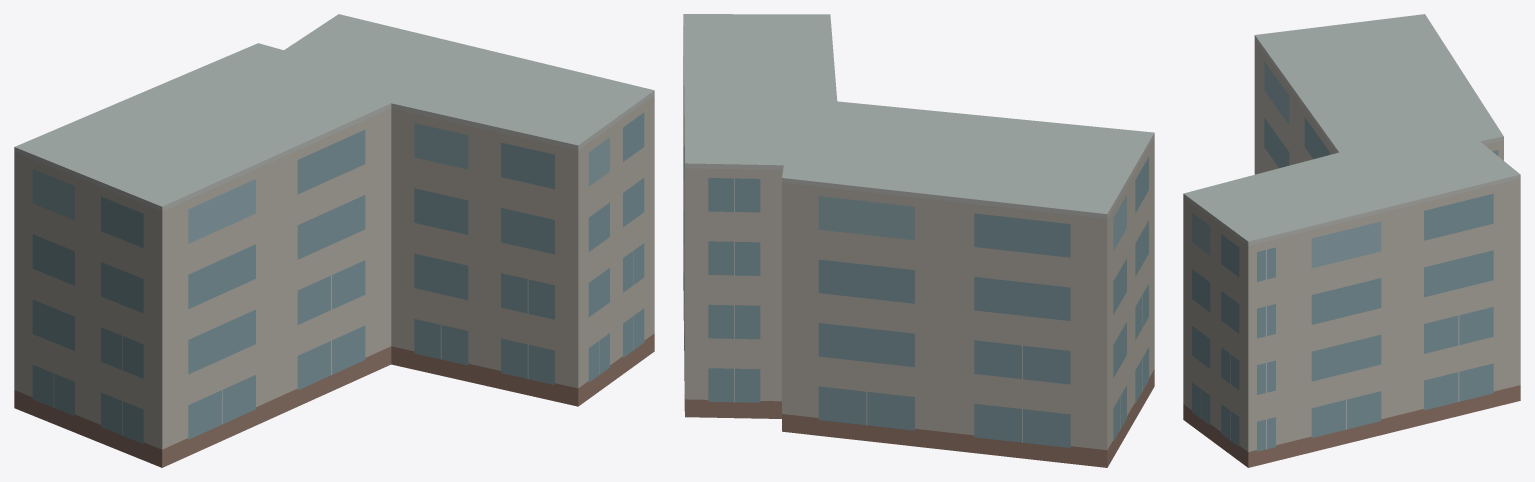
File: survey-upis-32894743.glb
3 views of the same model, side by side, from view 1: azimuth 30°, elevation 25°; view 2: azimuth 150°, elevation 25°; view 3: azimuth 270°, elevation 25° (orthographic). The views are drawn at different scales.
Parts seen in each view (by area): view 1: survey-upis-32894743.tmp; view 2: survey-upis-32894743.tmp; view 3: survey-upis-32894743.tmp.
Boxes of the visible parts, bbox=[...] form: survey-upis-32894743.tmp: bbox=[14, 14, 654, 467]; survey-upis-32894743.tmp: bbox=[683, 14, 1154, 467]; survey-upis-32894743.tmp: bbox=[1183, 14, 1520, 467].
Bounding box in the file's own units: 28.49 × 13.2 × 17.84.
